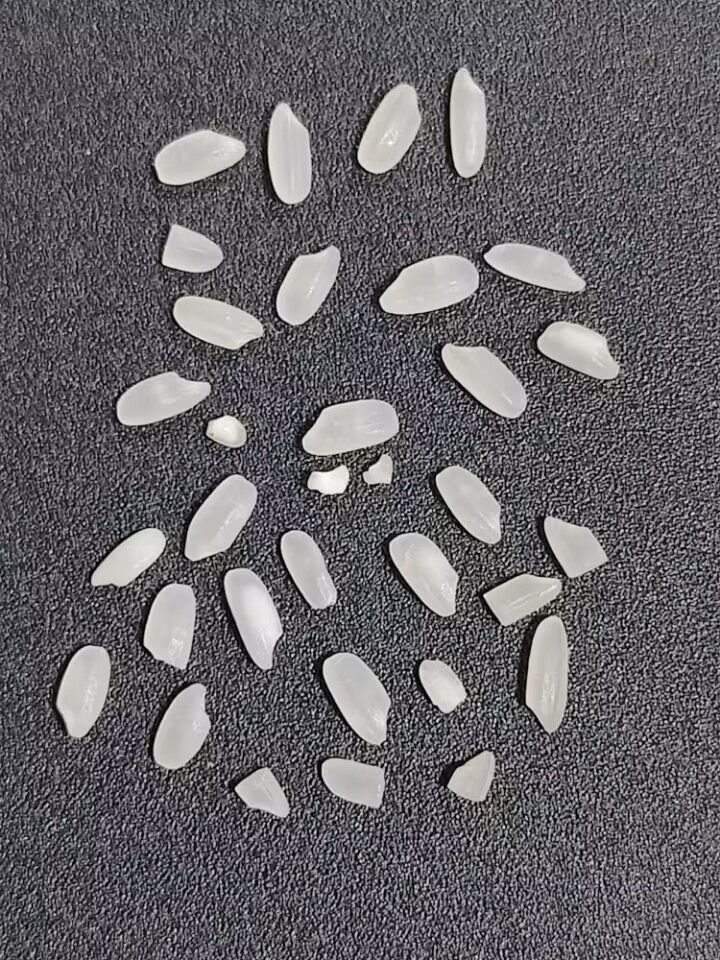broken: (479, 570, 565, 629), (541, 513, 609, 580), (317, 757, 387, 812), (232, 763, 292, 818), (160, 222, 223, 274), (416, 657, 470, 715), (443, 746, 497, 803), (302, 461, 350, 501), (205, 412, 246, 449), (362, 454, 394, 490)
rice: (319, 649, 394, 746), (378, 250, 486, 316), (440, 340, 528, 420), (182, 474, 259, 561), (385, 533, 462, 619), (222, 568, 285, 672), (355, 81, 423, 174), (165, 292, 270, 352), (432, 463, 505, 547), (297, 397, 400, 456), (114, 369, 212, 430), (523, 615, 570, 735), (273, 242, 340, 324), (483, 241, 584, 295), (153, 130, 247, 187), (264, 99, 313, 206), (152, 683, 212, 770), (55, 645, 111, 738), (89, 524, 169, 589), (536, 320, 620, 380), (448, 65, 489, 181), (280, 529, 337, 610), (143, 583, 196, 670)
